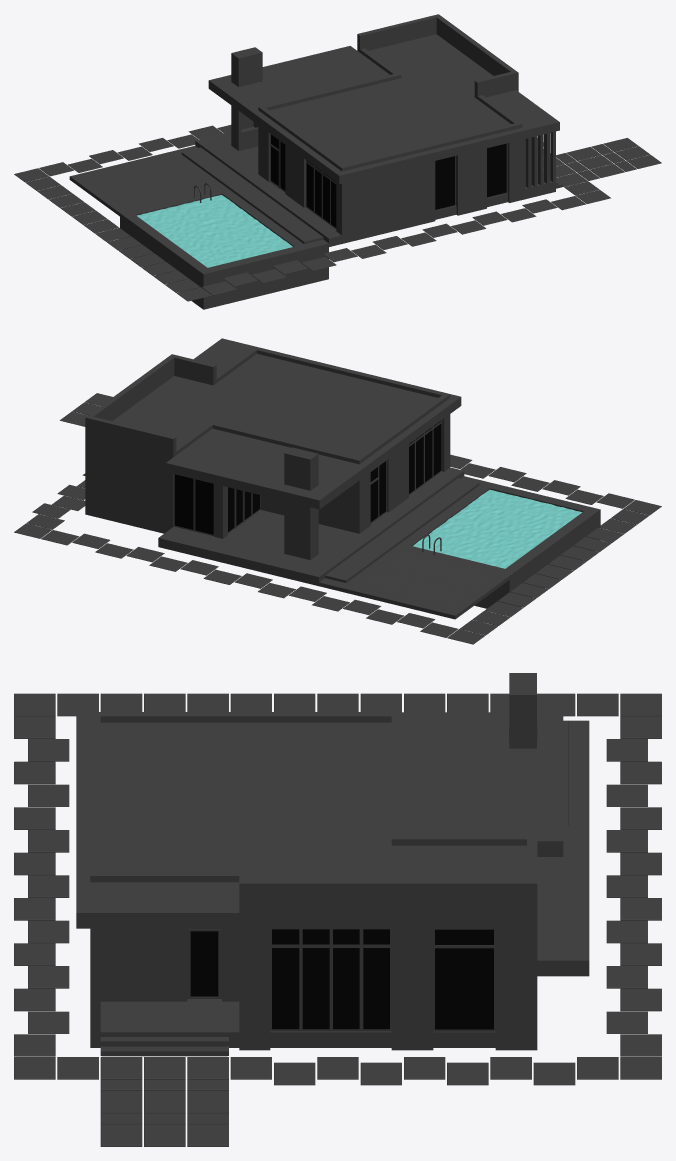
The model's file is apartmentq.fbx.
3 views of the same model, one above another, from view 1: azimuth 30°, elevation 25°; view 2: azimuth 150°, elevation 25°; view 3: azimuth 270°, elevation 25° (orthographic). The views are drawn at different scales.
Visible parts, largest first — view 1: cottage, walkway, water, pool, ceramic tile, Planks, window_glass_005, window_glass_01, window_glass_002, window_glass_006; view 2: cottage, walkway, water, ceramic tile, Planks, pool, window_glass_007, window_glass_005, window_glass_008, window_glass_006, window_frame_05; view 3: cottage, walkway, window_glass_003, window_glass_004, window_frame_03, ceramic tile, door_glass_001, window_frame_04, door_frame_001.
Boxes of the visible parts, x1,y1,x2,y2 form: cottage: [181, 14, 562, 246]; walkway: [14, 125, 661, 301]; water: [137, 195, 292, 267]; pool: [69, 177, 328, 309]; ceramic tile: [70, 146, 328, 274]; Planks: [85, 157, 215, 210]; window_glass_005: [306, 161, 336, 227]; window_glass_01: [435, 156, 454, 209]; window_glass_002: [487, 143, 506, 197]; window_glass_006: [271, 134, 285, 190]; cottage: [85, 338, 479, 586]; walkway: [14, 393, 661, 644]; water: [413, 489, 581, 568]; ceramic tile: [319, 476, 600, 615]; Planks: [357, 550, 498, 608]; pool: [319, 488, 600, 619]; window_glass_007: [175, 474, 213, 534]; window_glass_005: [409, 421, 441, 493]; window_glass_008: [228, 487, 259, 532]; window_glass_006: [370, 461, 385, 522]; window_frame_05: [409, 420, 441, 495]; cottage: [76, 673, 589, 1056]; walkway: [14, 693, 661, 1146]; window_glass_003: [272, 929, 389, 1029]; window_glass_004: [435, 929, 493, 1029]; window_frame_03: [270, 928, 391, 1031]; ceramic tile: [563, 720, 589, 825]; door_glass_001: [190, 931, 218, 996]; window_frame_04: [433, 928, 495, 1031]; door_frame_001: [187, 928, 221, 998].
Size of the model in its own units: 30900 by 7900 by 18700.
